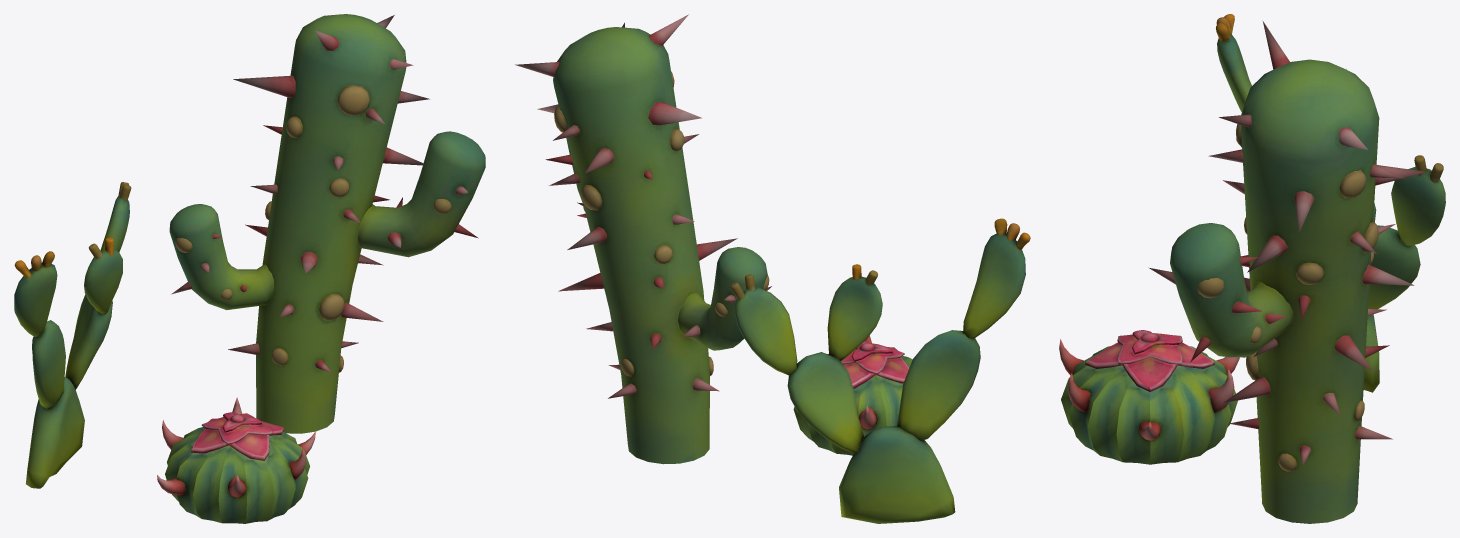
The model's file is PRP_Cactus.glb.
3 views of the same model, side by side, from view 1: azimuth 30°, elevation 25°; view 2: azimuth 150°, elevation 25°; view 3: azimuth 270°, elevation 25° (orthographic). The views are drawn at different scales.
Visible parts, largest first — view 1: defaultMaterial (×3); view 2: defaultMaterial (×3); view 3: defaultMaterial (×3).
Boxes of the visible parts, bbox=[...] form: defaultMaterial (×3): bbox=[14, 14, 485, 523]; defaultMaterial (×3): bbox=[515, 14, 1030, 523]; defaultMaterial (×3): bbox=[1059, 14, 1445, 523].
Bounding box in the file's own units: 2 × 1.7 × 1.22.
3 materials, 3 textured.
